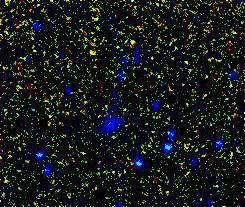star: (120, 25, 150, 55)
